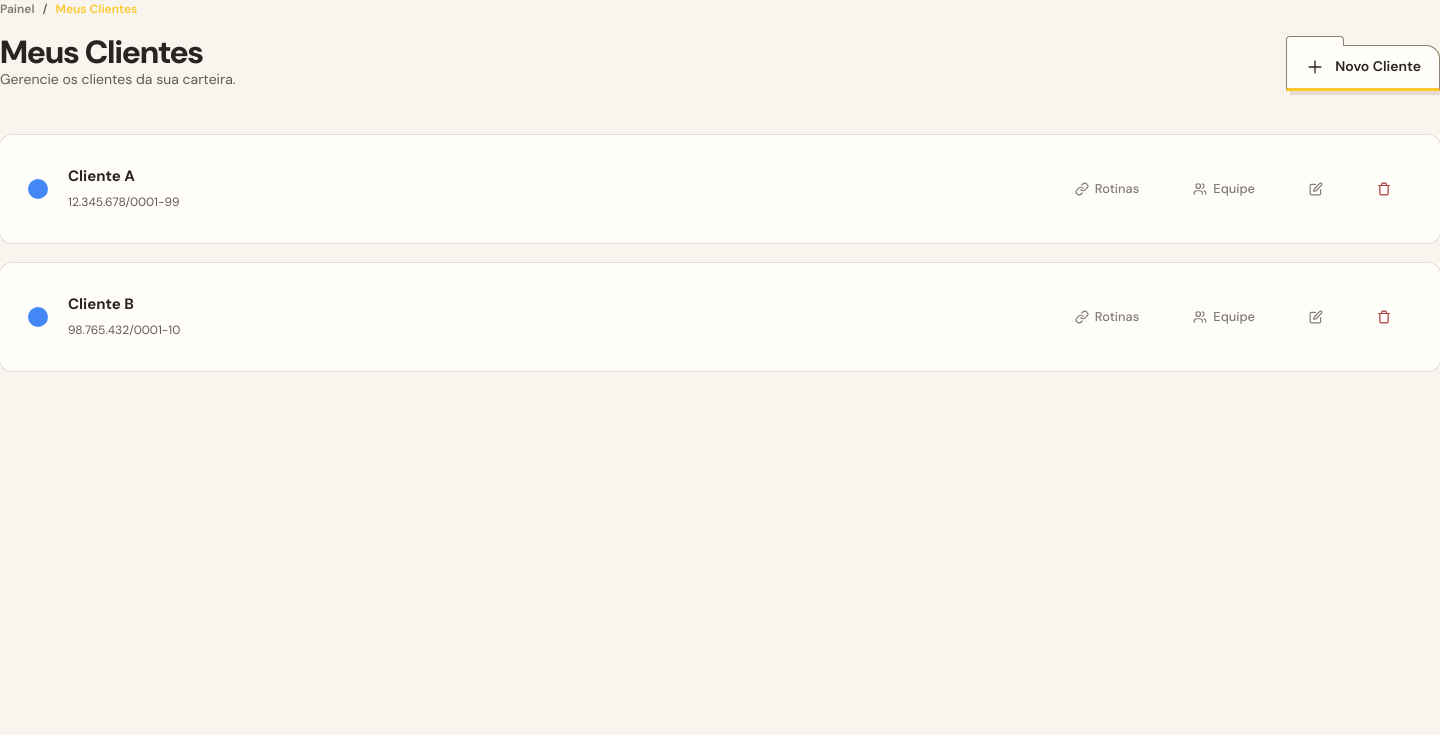
Test: EmpresasPage › does not show inline edit form for new client button
Click the button "Novo Cliente": (1363, 68) [1286,45,1439,91]
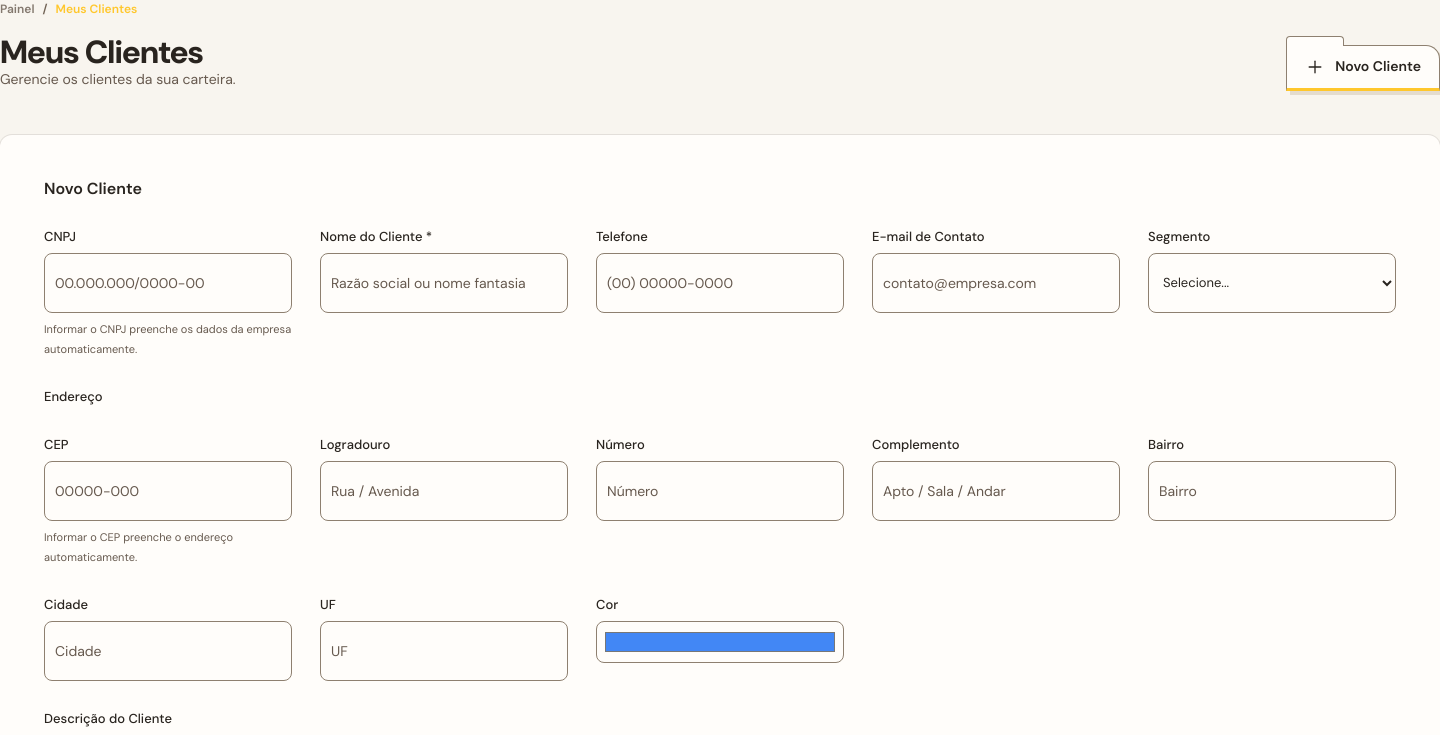
Expected: the field with placeholder "Razão social ou nome fantasia" is shown, [320,253,568,313]
